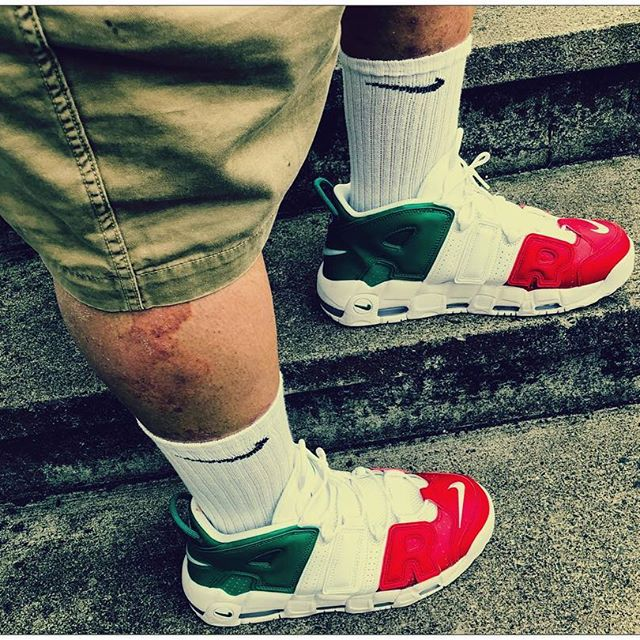Nike Air Uptempo '96 Italy: (130, 429, 498, 628), (296, 169, 639, 338)
